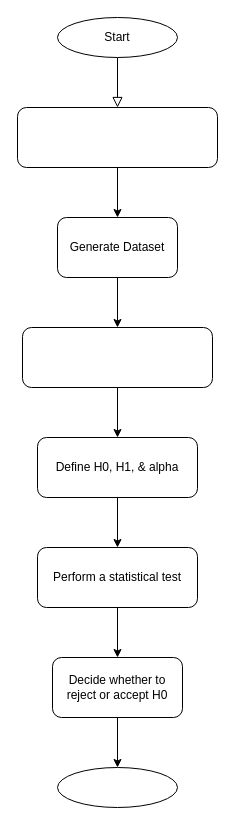
Some shapes in this 235 by 825 pixel diagram are drawn without their labels. The centre of each missing label's shape, as x and y in pixels:
Check the Central Tendency & Variability of data: pixel 117 357
Finish: pixel 117 787
Understand business problem and define objective.: pixel 117 137
